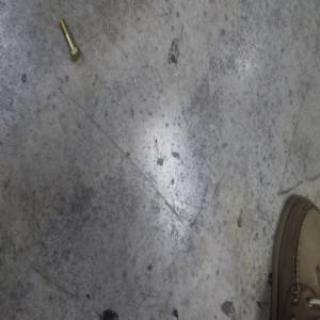Bolttrack_idkeyframe: (58, 16, 80, 64)
